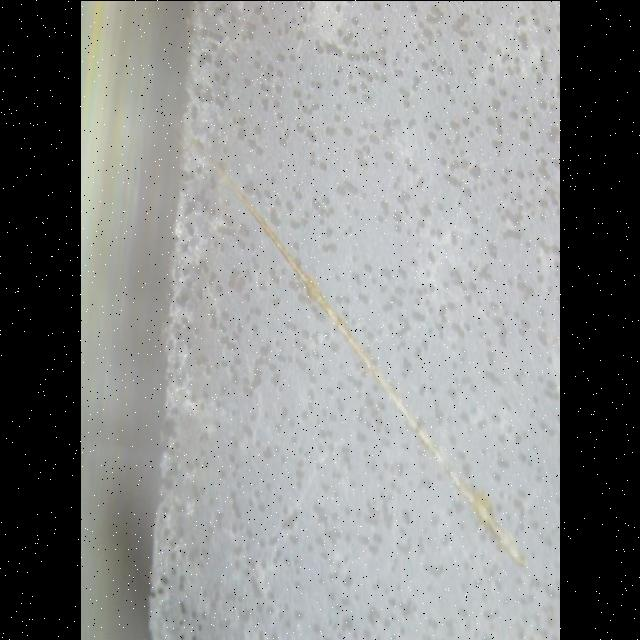Fibre: (182, 120, 532, 574)
